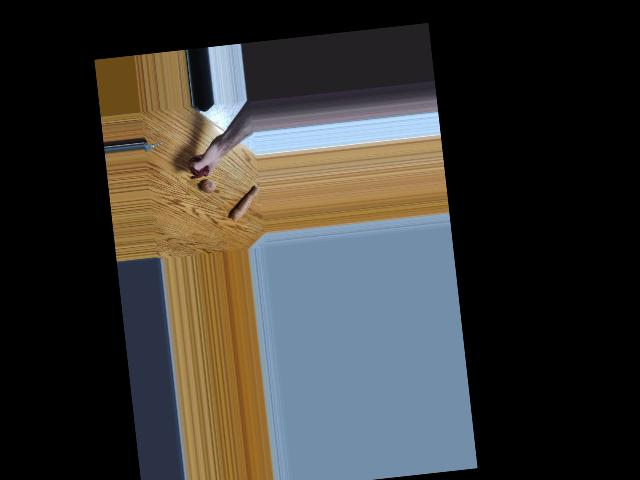onion: (190, 156, 211, 178)
